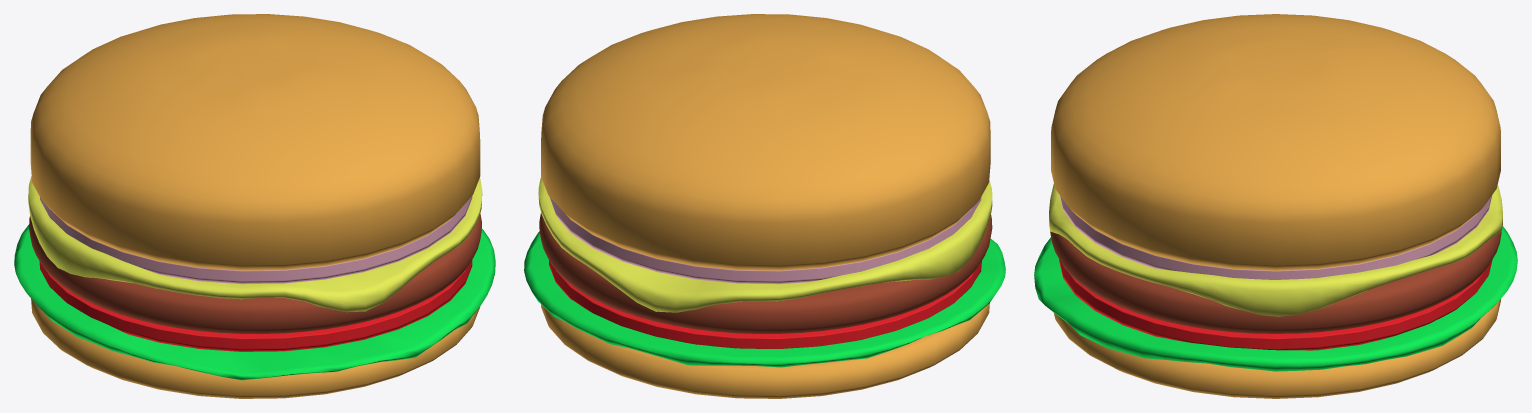
Rendered from burger.fbx.
The picture shows the model from 3 angles, left to right: view 1: azimuth 30°, elevation 25°; view 2: azimuth 150°, elevation 25°; view 3: azimuth 270°, elevation 25°; orthographic projection.
Visible parts, largest first — view 1: burger; view 2: burger; view 3: burger.
Part boxes in pixels (x1,y1,x2,y2): burger: (14,14,495,398); burger: (524,14,1005,398); burger: (1034,14,1517,398).
Bounding box in the file's own units: 2.13 × 1.28 × 2.14.
